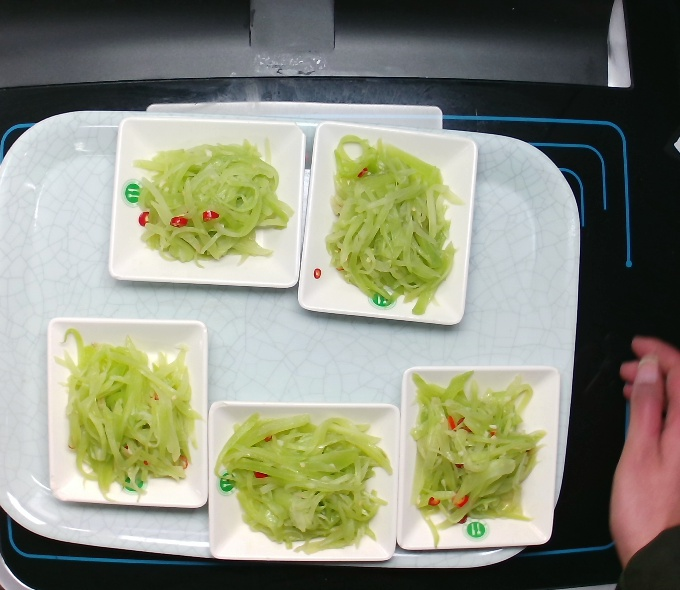wcq-YanWoSun: (212, 413, 388, 550), (323, 142, 459, 316), (116, 139, 294, 267), (69, 342, 192, 492), (420, 387, 543, 537)
